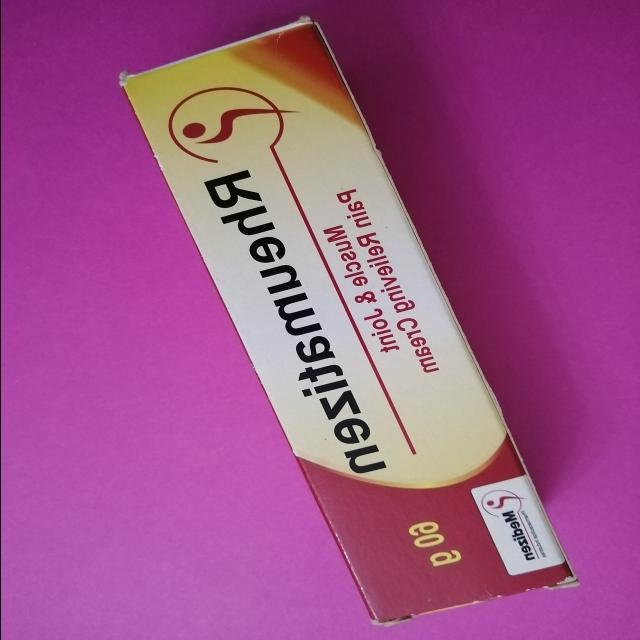Medicine Name: (193, 166, 395, 482)
